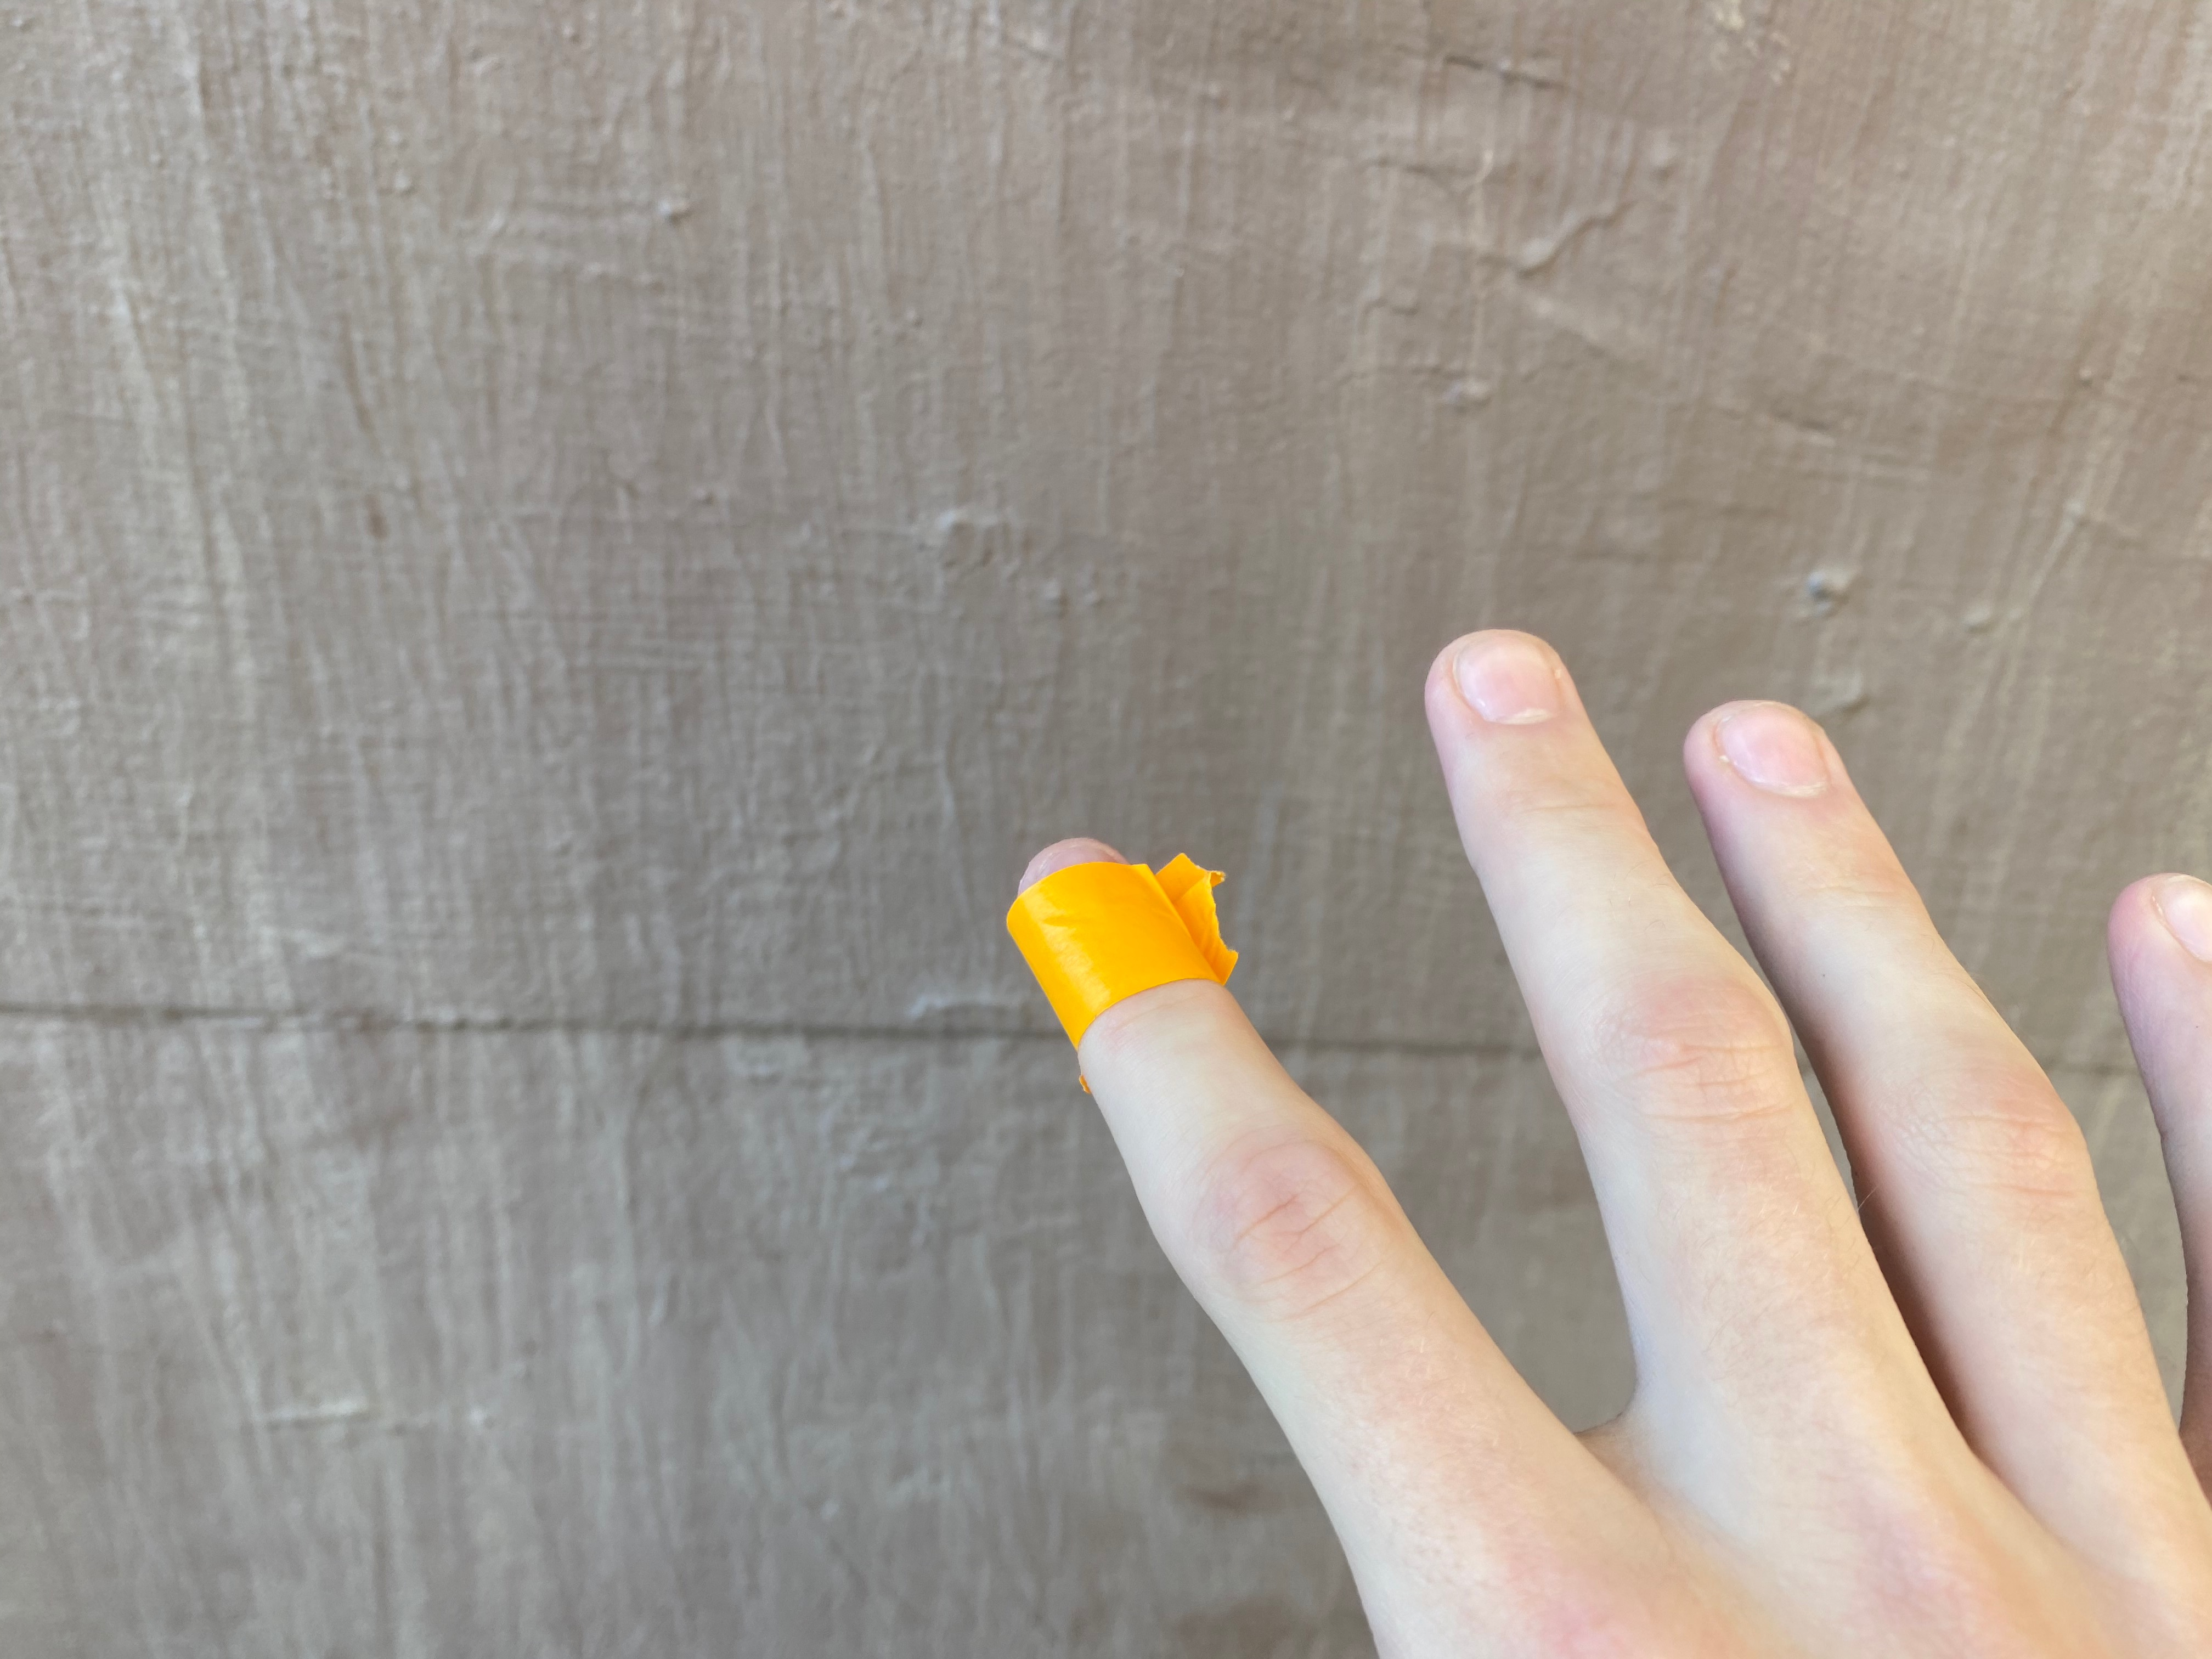fingertip: (923, 816, 1273, 1103)
